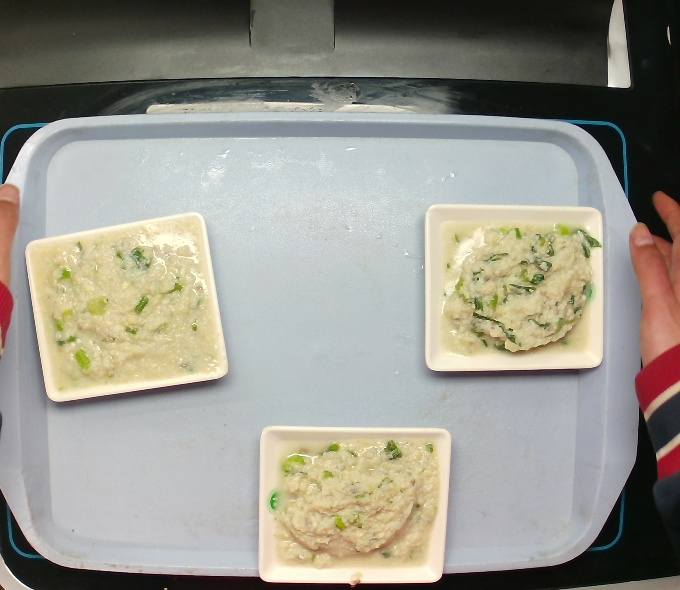wcq-QinCaiDouFuZha: (27, 214, 231, 405), (436, 200, 598, 376), (278, 430, 428, 576)
